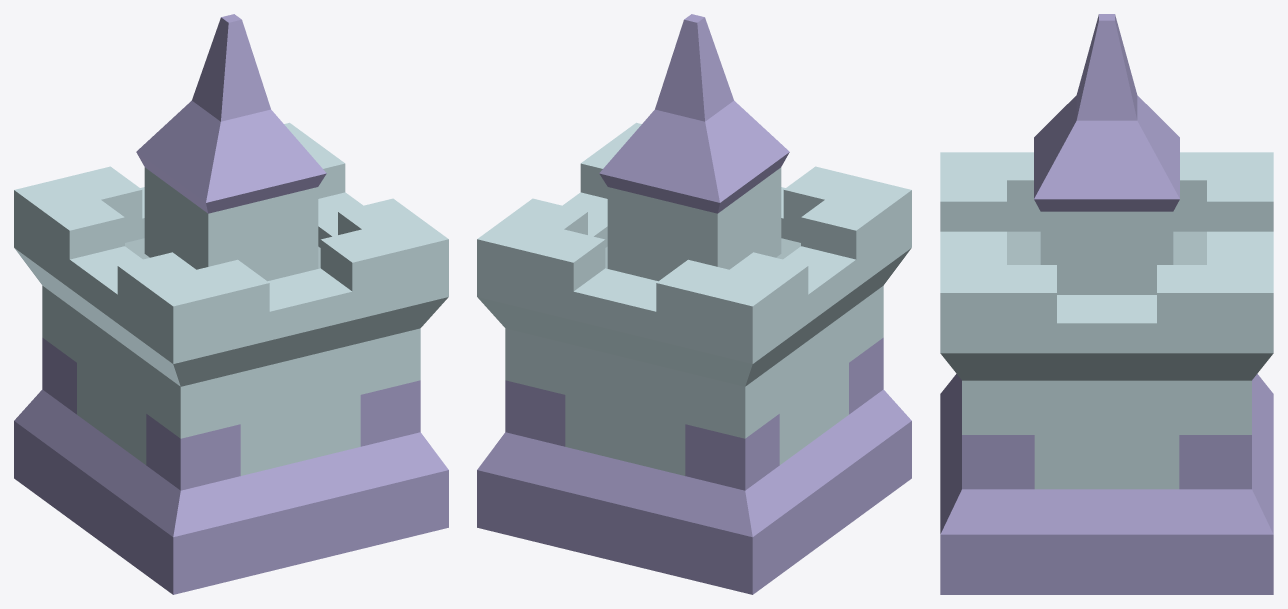
Rendered from towerSquare_sampleC.glb.
3 renders of one model, left to right at view 1: azimuth 30°, elevation 25°; view 2: azimuth 150°, elevation 25°; view 3: azimuth 270°, elevation 25°, orthographic. The views are drawn at different scales.
Parts seen in each view (by area): view 1: towerSquare_sampleC; view 2: towerSquare_sampleC; view 3: towerSquare_sampleC.
Boxes of the visible parts, x1,y1,x2,y2 form: towerSquare_sampleC: (14,14,448,594); towerSquare_sampleC: (477,14,911,594); towerSquare_sampleC: (940,14,1273,594).
Size of the model in its own units: 1 by 1.68 by 1.
